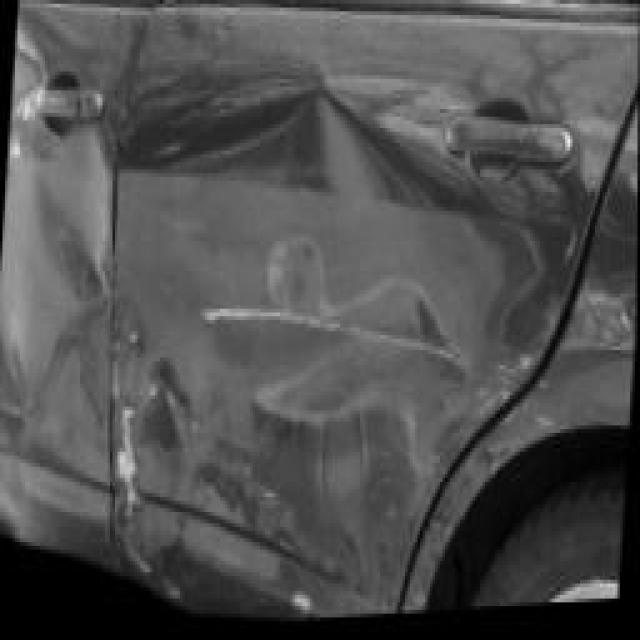Door: (0, 34, 585, 588)
